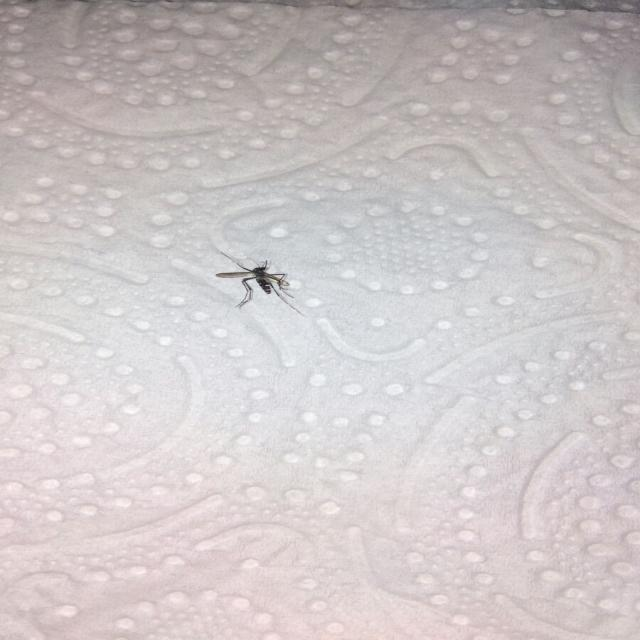albopictus: (208, 239, 302, 316)
